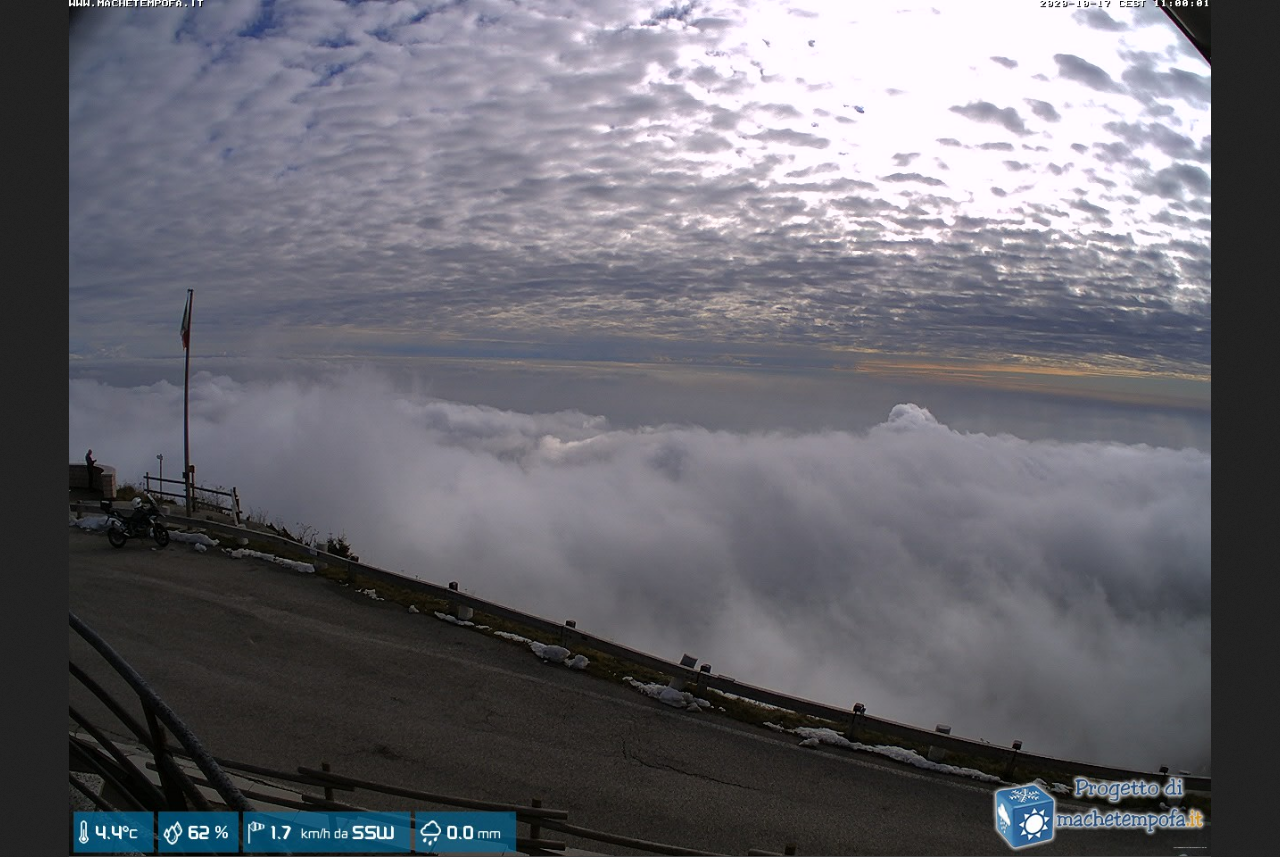no: (180, 291, 196, 347)
